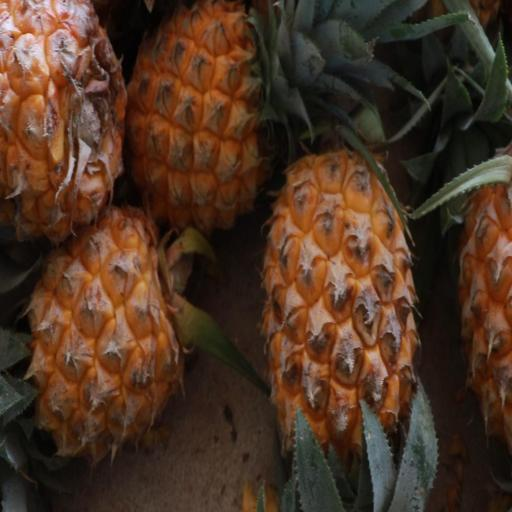Pineapple - v8 v1: (252, 141, 430, 512), (15, 191, 203, 465), (120, 0, 301, 241), (0, 0, 134, 253)
